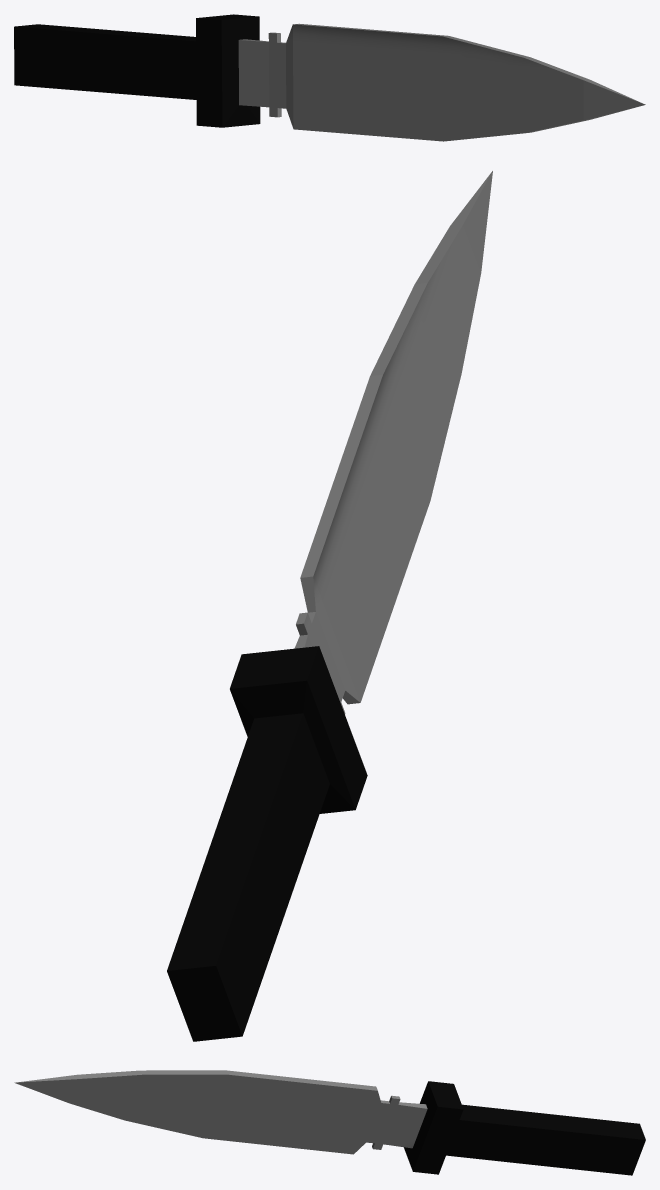
File: knife.fbx
3 views of the same model, one above another, from view 1: azimuth 30°, elevation 25°; view 2: azimuth 150°, elevation 25°; view 3: azimuth 270°, elevation 25° (orthographic). The views are drawn at different scales.
Parts seen in each view (by area): view 1: knife; view 2: knife; view 3: knife.
Part boxes in pixels (x1,y1,x2,y2): knife: (14,14,645,141); knife: (167,171,492,1041); knife: (14,1070,645,1175).
Size of the model in its own units: 25.85 by 23.3 by 78.2.
